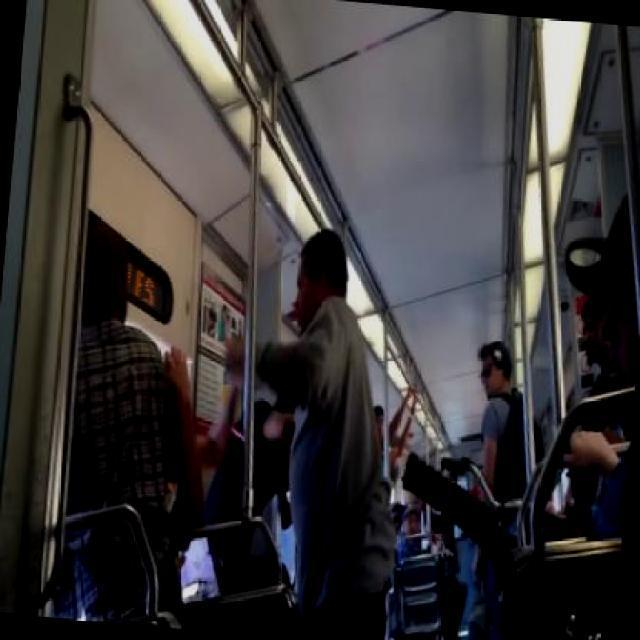fight: (198, 220, 417, 638)
non-fight: (464, 340, 550, 502)
